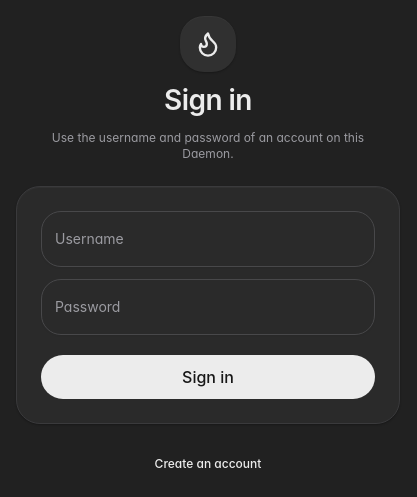
Test: AuthScreen › shows the create-account link only when signup is open, and switches mode
What coordinates should you click on to do the following:
click the button "Create an account"
I would click on:
 (208, 464)
Its box is [143, 448, 273, 480].
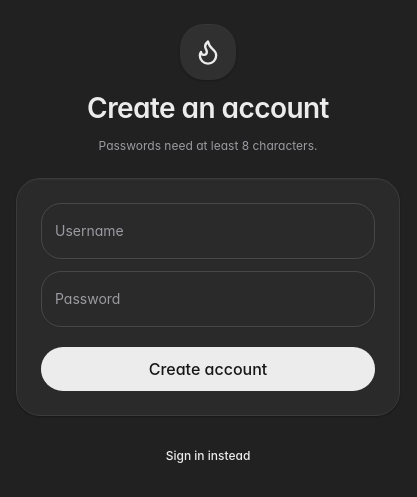
Now the heading "Create an account" is shown, box [87, 92, 329, 126]
Now the button "Create account" is shown, box [41, 347, 375, 391]
What coordinates should you click on to do the following:
click the button "Sign in instead"
I would click on:
 (208, 456)
Its box is [154, 440, 262, 472].
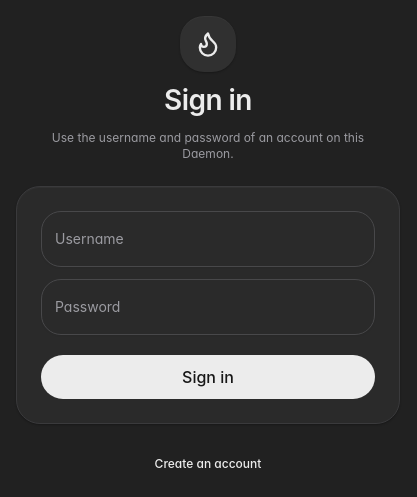
Now the heading "Sign in" is shown, box [164, 84, 252, 118]
